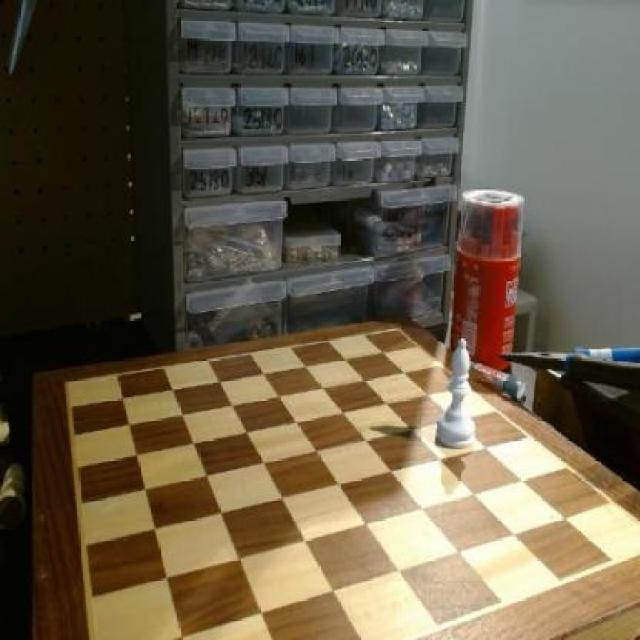black-rook: (434, 332, 478, 451)
